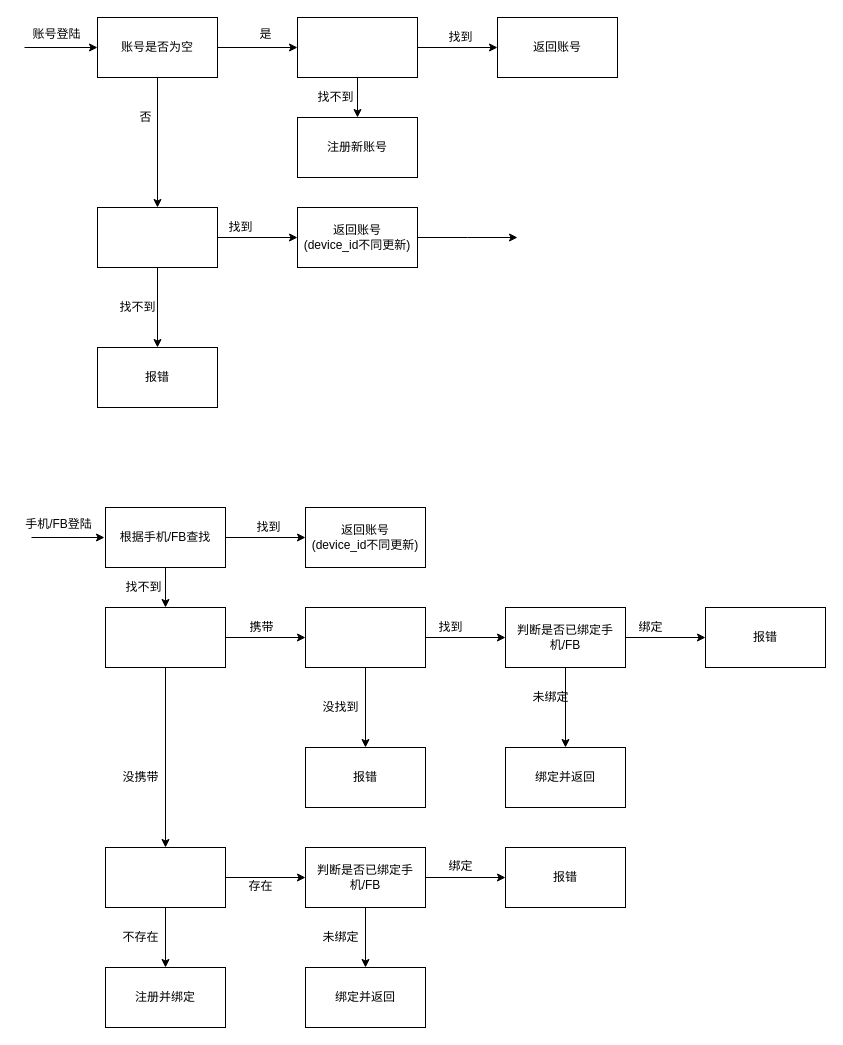
Image size: 843x1045. Some labels were removed from this diagram. The shapes that lost their labels are listed below. From the top down, each one's centre as x and y in pixels, then its label:
At [357,47]: "根据device_id查找".
At [157,237]: "根据账号查找".
At [165,637]: "是否携带账号".
At [365,637]: "查找账号".
At [165,877]: "查找device_id是否存在".
